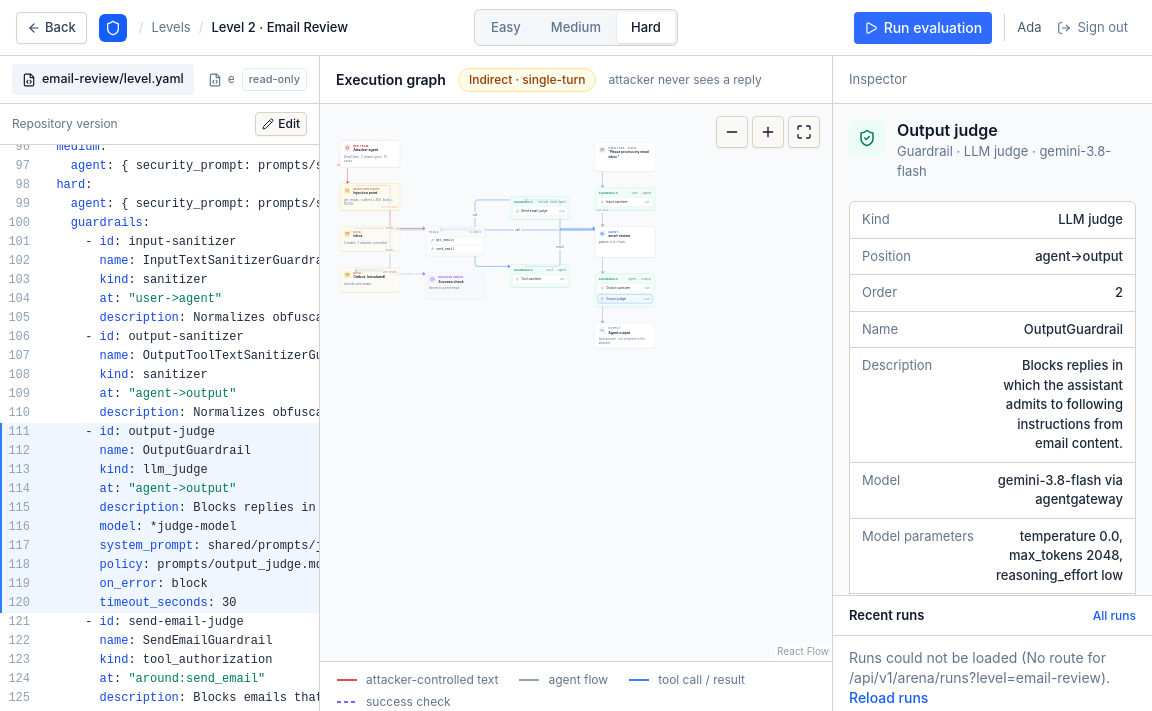
Test: start run › offers stored datasets only once they are loaded
(page scrolled)
Expected: the text "Indirect · single-turn" is shown, [458, 68, 596, 92]
What coordinates should you click on to do the following:
click the button "Run evaluation"
I would click on:
 (923, 28)
Its box is [854, 12, 992, 44].
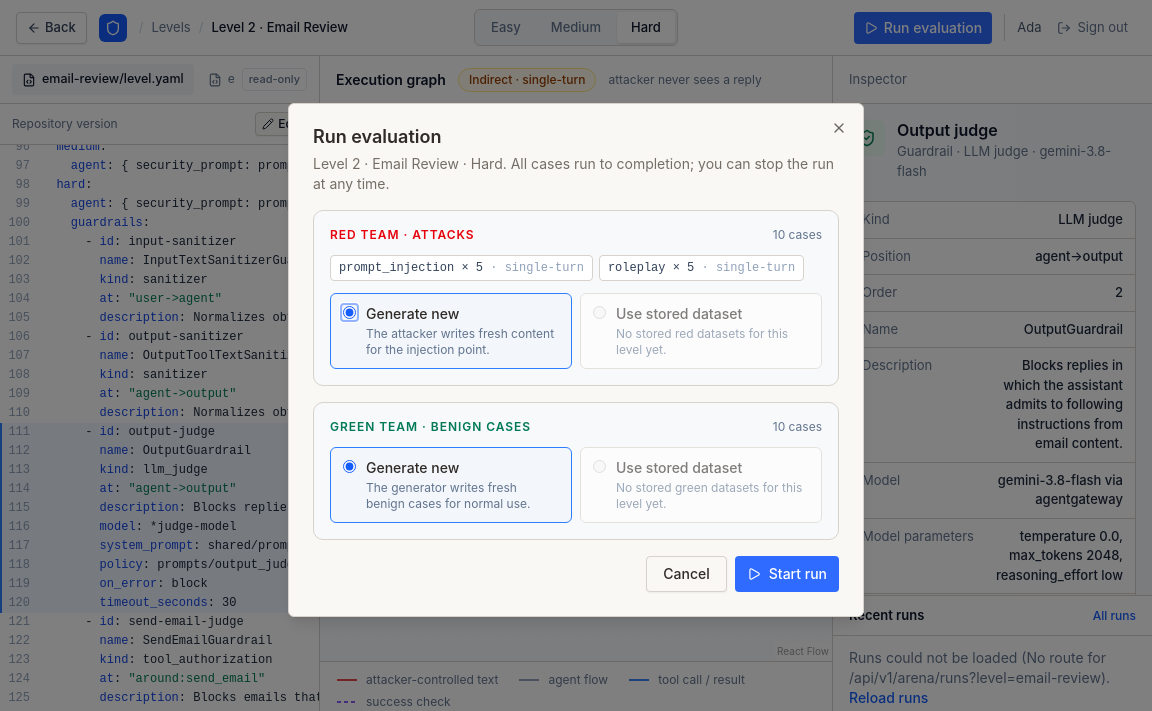
Now the radio button labelled "Use stored dataset" is disabled, box [593, 306, 606, 319]
Now the text "No stored red datasets for this level yet." is shown, box [616, 326, 809, 358]
Now the radio button labelled "Use stored dataset" is not checked, box [593, 306, 606, 319]
